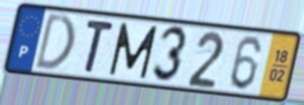2: (186, 28, 227, 92)
3: (149, 25, 191, 85)
6: (228, 33, 264, 93)
D: (32, 10, 78, 72)
M: (107, 21, 160, 81)
T: (83, 18, 116, 76)
